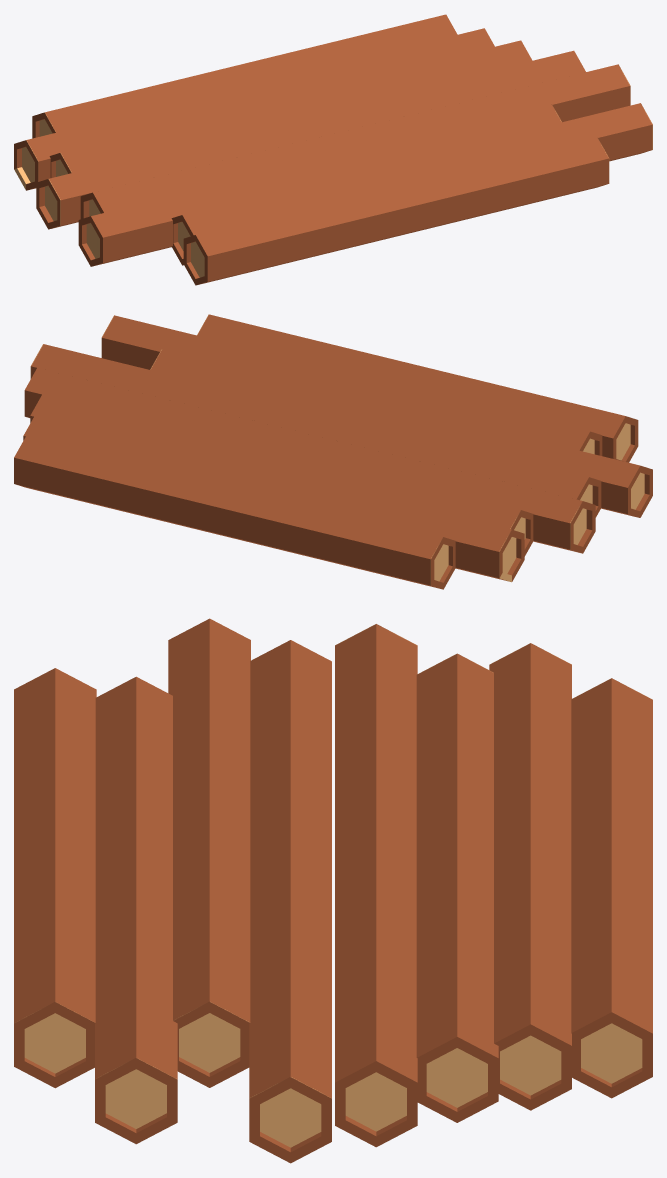
Rendered from TrashIsland.obj.
The picture shows the model from 3 angles, top to bottom: view 1: azimuth 30°, elevation 25°; view 2: azimuth 150°, elevation 25°; view 3: azimuth 270°, elevation 25°; orthographic projection. The views are drawn at different scales.
Visible parts, largest first — view 1: TrashRaft; view 2: TrashRaft; view 3: TrashRaft.
Part boxes in pixels (bbox=[...]): TrashRaft: bbox=[14, 14, 652, 285]; TrashRaft: bbox=[14, 314, 652, 589]; TrashRaft: bbox=[14, 618, 652, 1163].
Bounding box in the file's own units: 9.89 × 0.8688 × 5.82.
